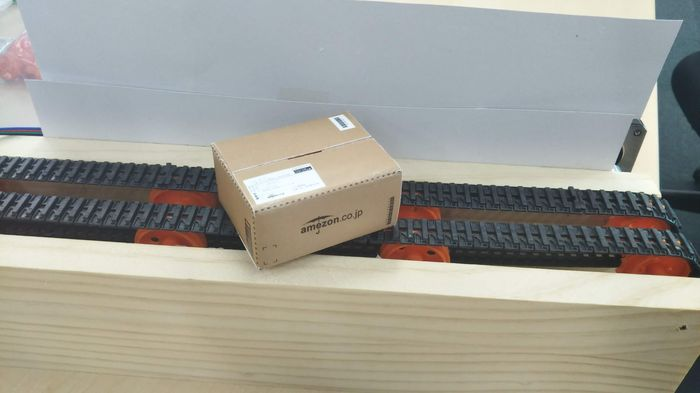box1: (207, 107, 404, 268)
